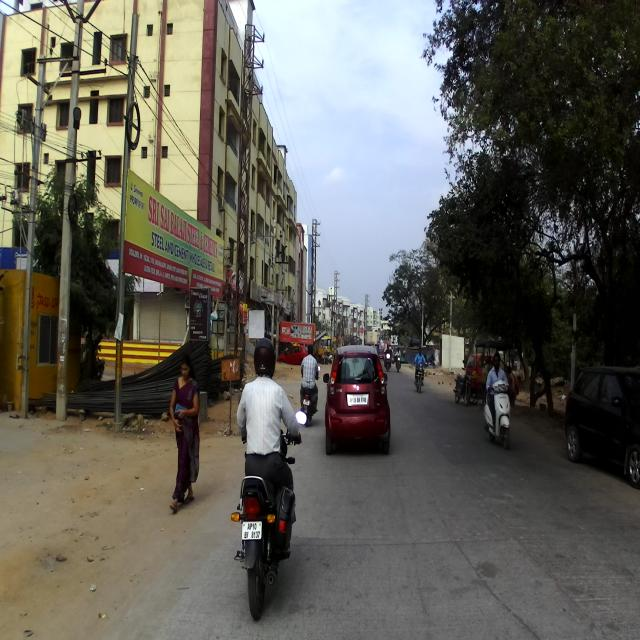car ahead at: (324, 342, 392, 458)
electric pole ahead at: (40, 0, 103, 412)
motorcycle ahead at: (232, 466, 308, 622)
person ahead at: (164, 356, 203, 522)
